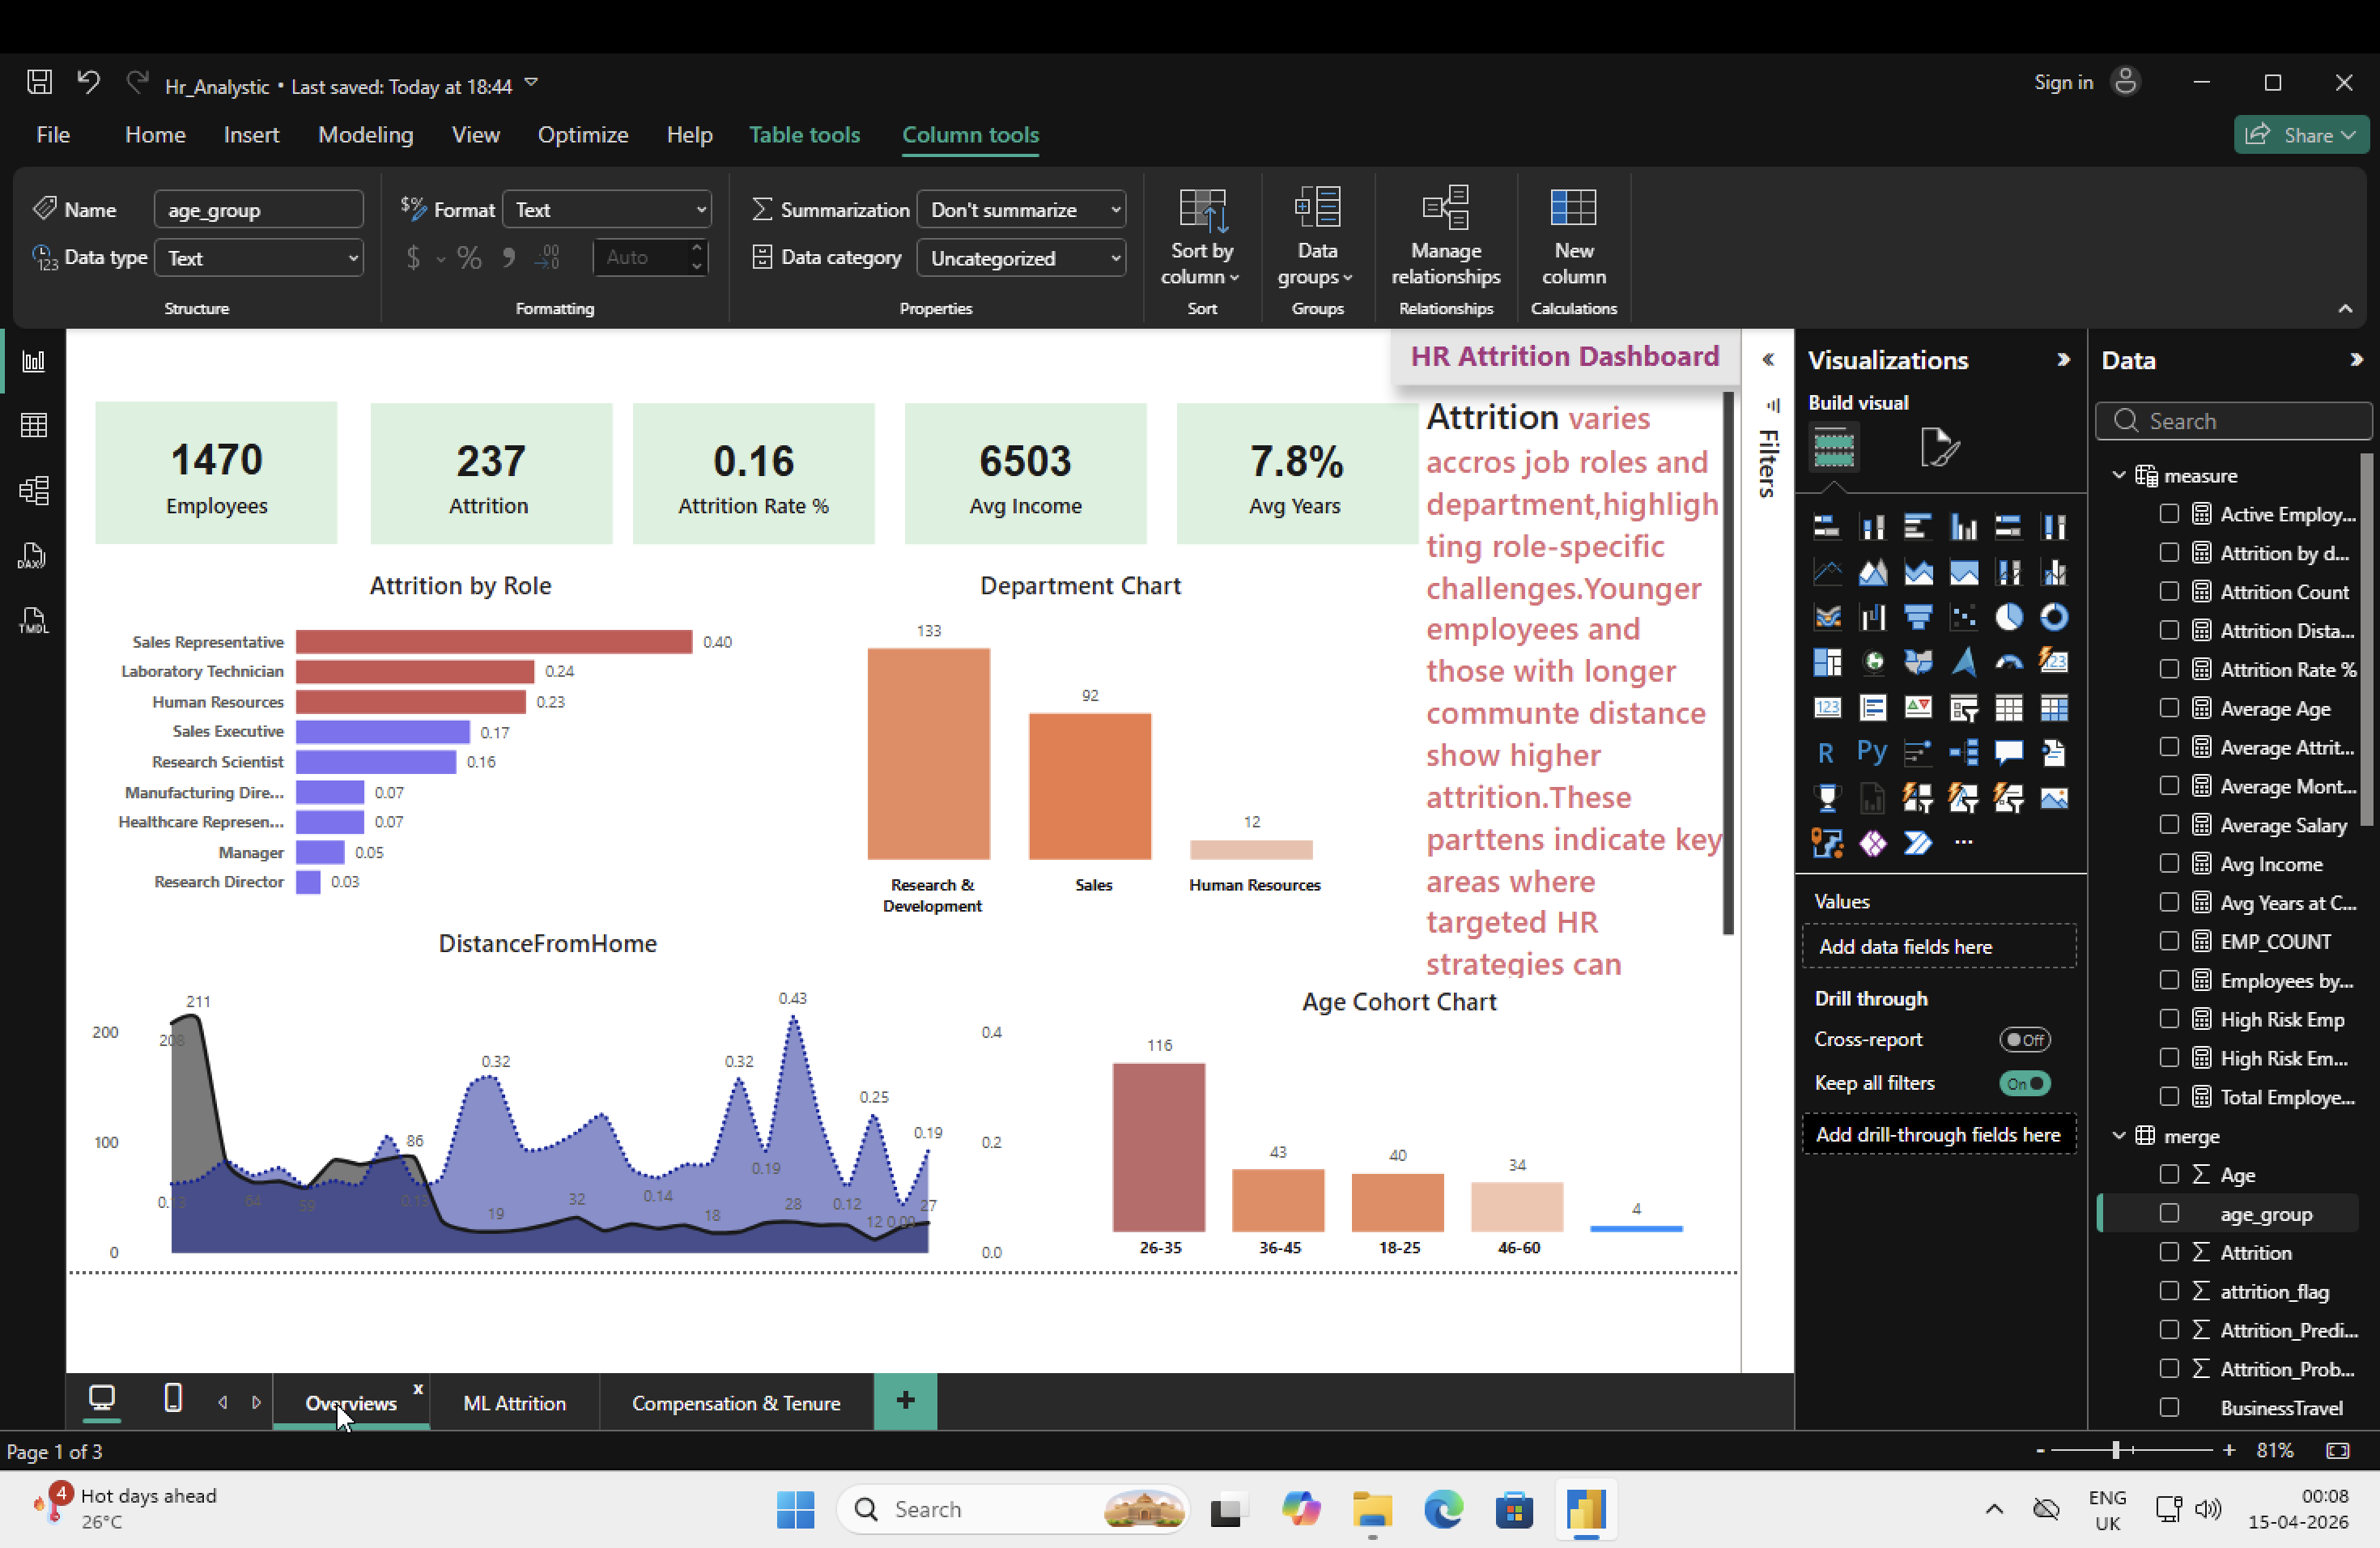

What the dashboard file says about the page in this screenshot:
{"tool":"powerbi","page":{"name":"Overviews","canvas":[1280,720],"ordinal":0},"visuals":[{"type":"group","id":"g1","title":"Group 1","box":[22.3,55.7,1012.6,110.2],"z":0},{"type":"card","fields":{"Values":["measure.EMP_COUNT"]},"box":[22.3,55.7,185.3,108.7],"z":0,"group":"g1"},{"type":"card","fields":{"Values":["measure.Avg Years at Company"]},"box":[849.1,57.5,184.8,107.9],"z":1000,"group":"g1"},{"type":"columnChart","title":"Department Chart","fields":{"Category":["merge.Department"],"Y":["measure.Attrition Count"]},"box":[538.5,183.2,474.1,273.6],"z":1000},{"type":"card","fields":{"Values":["measure.Attrition Count"]},"box":[232.7,57.5,184.8,107.9],"z":2000,"group":"g1"},{"type":"clusteredBarChart","title":"Attrition  by Role","fields":{"Category":["merge.JobRole"],"Y":["measure.Attrition Rate %"]},"box":[22.3,183.2,558.3,263.7],"z":2000},{"type":"card","fields":{"Values":["measure.Attrition Rate %"]},"box":[433.8,57.5,184.8,107.9],"z":3000,"group":"g1"},{"type":"clusteredColumnChart","title":"Age Cohort Chart","fields":{"Category":["merge.age_group"],"Y":["Sum(merge.Attrition)"]},"box":[758.8,501.4,521.2,219.1],"z":3000},{"type":"card","fields":{"Values":["measure.Average Monthly Rate"]},"box":[640.7,57.5,184.8,107.9],"z":4000,"group":"g1"},{"type":"lineChart","title":"DistanceFromHome","fields":{"Y":["CountNonNull(merge.age_group)"],"Y2":["measure.Attrition Rate %"],"Category":["merge.DistanceFromHome"]},"box":[14.9,456.8,706.8,263.7],"z":4000},{"type":"textbox","box":[1034.9,43.3,245.1,458],"z":5000},{"type":"textbox","box":[1012.6,0,267.4,43.3],"z":6000}]}

Visuals, with their boxes on the page's 1280x720 design canvas (x1, y1, x2, y2). These are canvas units, not pixel positions in the 2380x1548 screenshot, which may show the page scaled, cropped or inside an application window:
"Group 1" group: <region>22, 56, 1035, 166</region>
card - measure.EMP_COUNT: <region>22, 56, 208, 164</region>
card - measure.Avg Years at Company: <region>849, 58, 1034, 165</region>
"Department Chart" columnChart: <region>538, 183, 1013, 457</region>
card - measure.Attrition Count: <region>233, 58, 418, 165</region>
"Attrition  by Role" clusteredBarChart: <region>22, 183, 581, 447</region>
card - measure.Attrition Rate %: <region>434, 58, 619, 165</region>
"Age Cohort Chart" clusteredColumnChart: <region>759, 501, 1280, 720</region>
card - measure.Average Monthly Rate: <region>641, 58, 826, 165</region>
"DistanceFromHome" lineChart: <region>15, 457, 722, 720</region>
textbox: <region>1035, 43, 1280, 501</region>
textbox: <region>1013, 0, 1280, 43</region>
